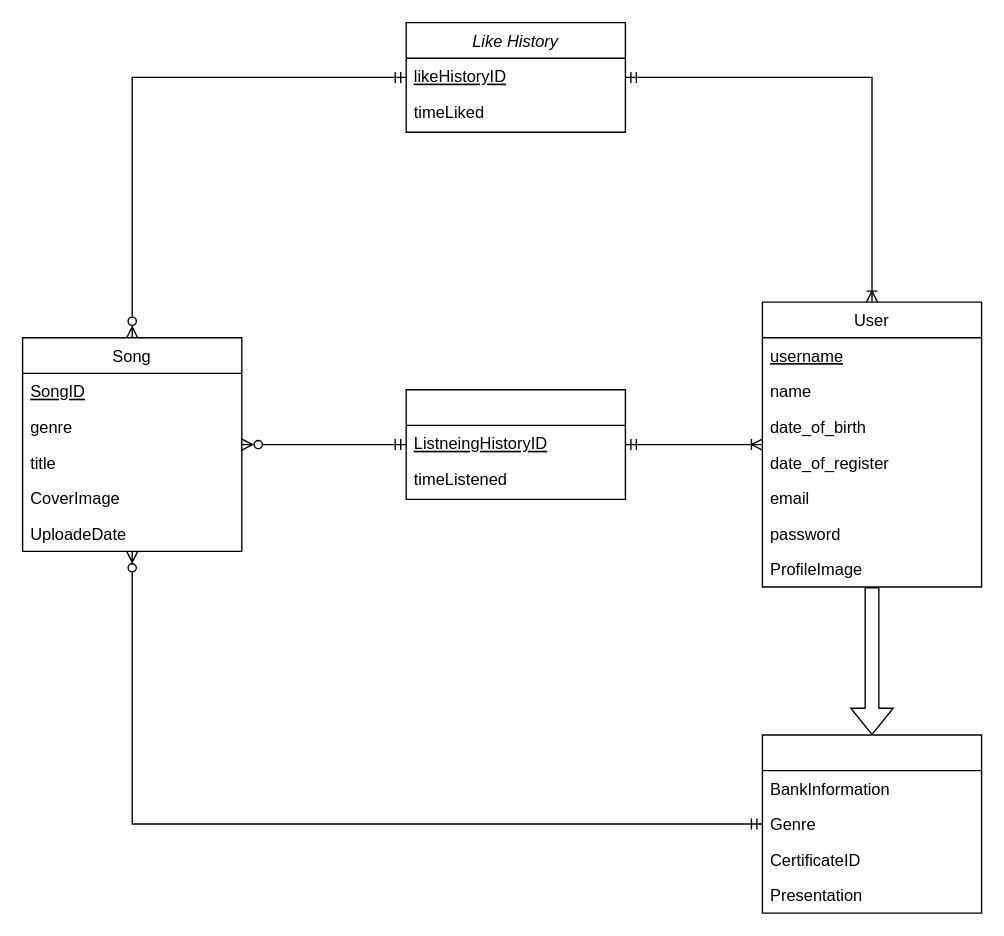
The diagram is 1004 pixels wide and 936 high, and some of its shapes have lost their labels. Each missing label, with the box of its shape:
Artist: (761, 734, 982, 913)
Listening History: (405, 388, 625, 499)
